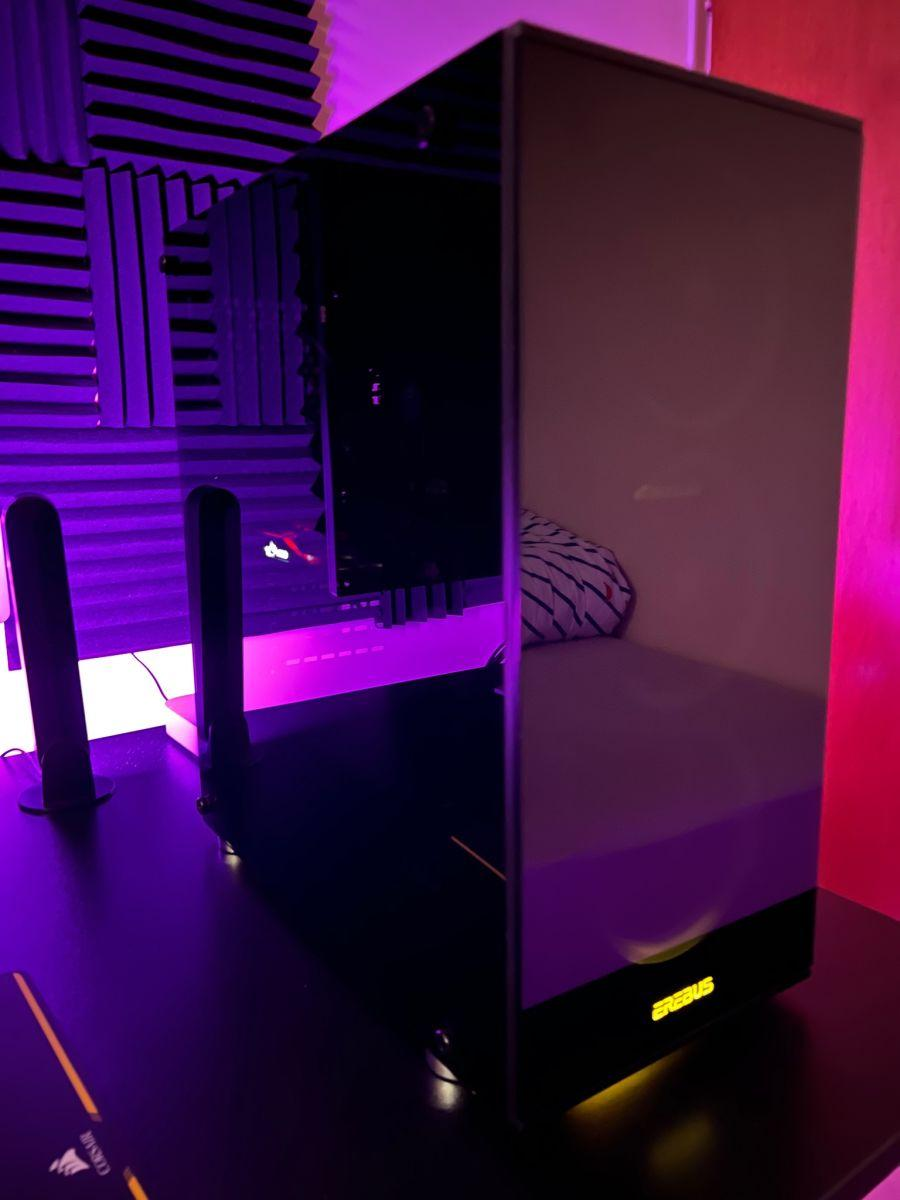computer_tower: (172, 30, 819, 1057)
